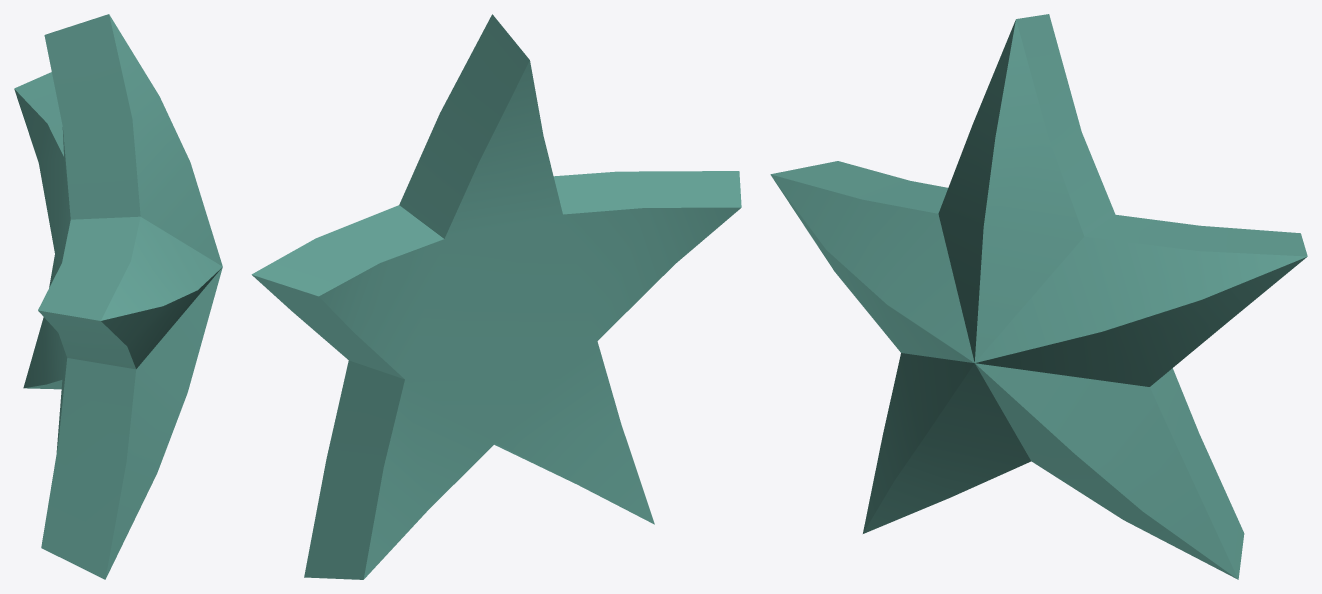
The model's file is BR4_Frame_Star.001 3.glb.
3 views of the same model, side by side, from view 1: azimuth 30°, elevation 25°; view 2: azimuth 150°, elevation 25°; view 3: azimuth 270°, elevation 25° (orthographic). The views are drawn at different scales.
Parts seen in each view (by area): view 1: BR4_Frame_Star.001; view 2: BR4_Frame_Star.001; view 3: BR4_Frame_Star.001.
Part boxes in pixels (<box>): BR4_Frame_Star.001: <box>14,14,222,579</box>; BR4_Frame_Star.001: <box>251,14,741,579</box>; BR4_Frame_Star.001: <box>770,14,1307,579</box>.
Size of the model in its own units: 0.2738 by 0.4958 by 0.4356.
